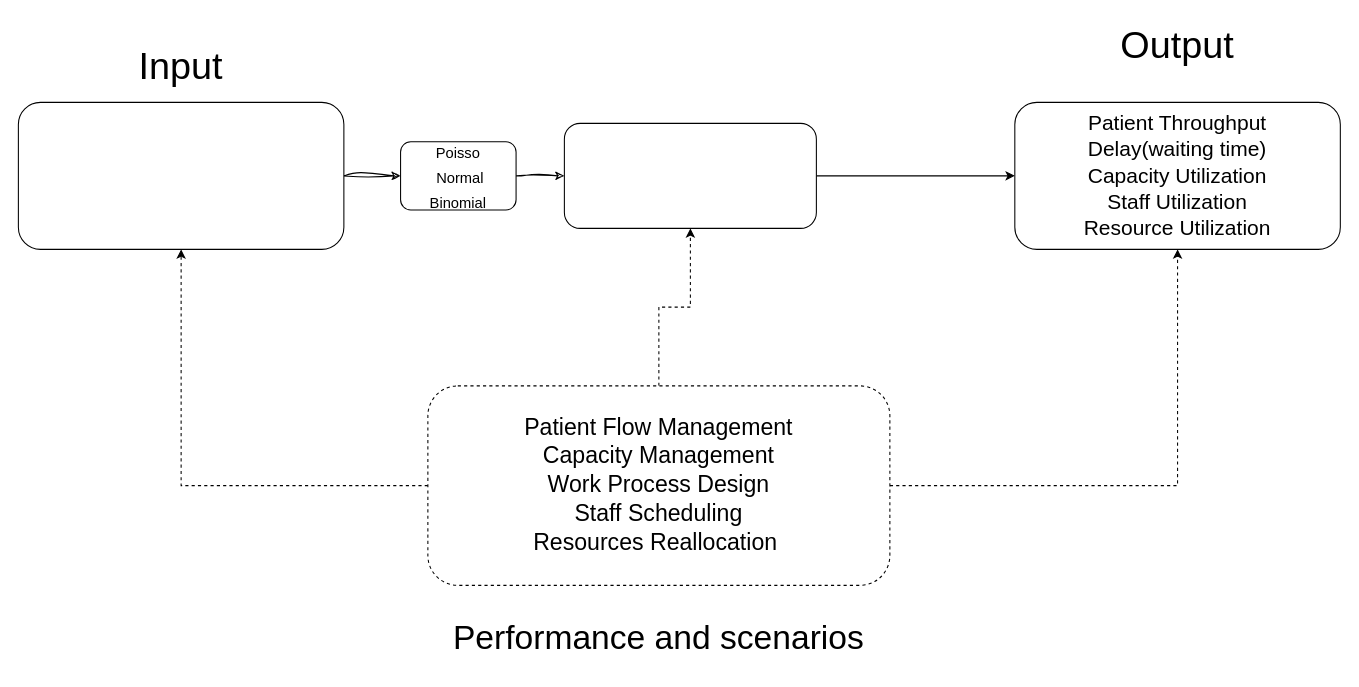
Some shapes in this 1359 by 687 pixel diagram are drawn without their labels. Each missing label, with the box of its shape:
Patient Arrival Time Patient Service Time Capacity of Resources Staff Schedule: (17, 101, 344, 249)
Simulation Model: (563, 122, 816, 228)
